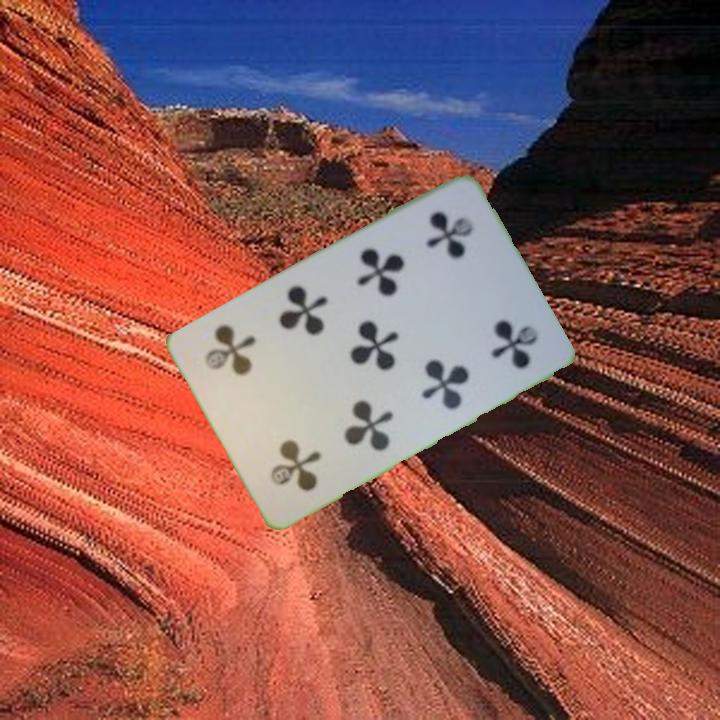c_9.png: (390, 187, 512, 315), (231, 386, 353, 513)
